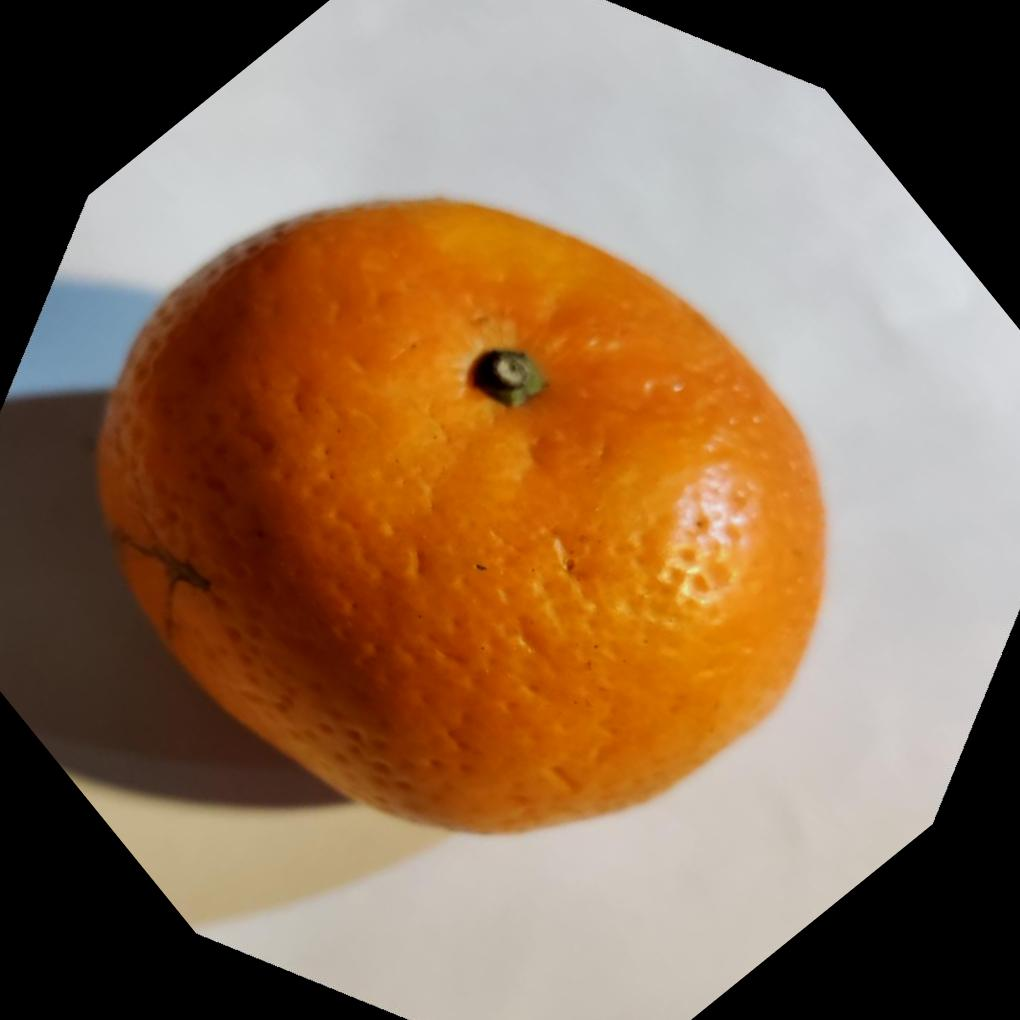FreshGuava: (94, 197, 831, 840)
